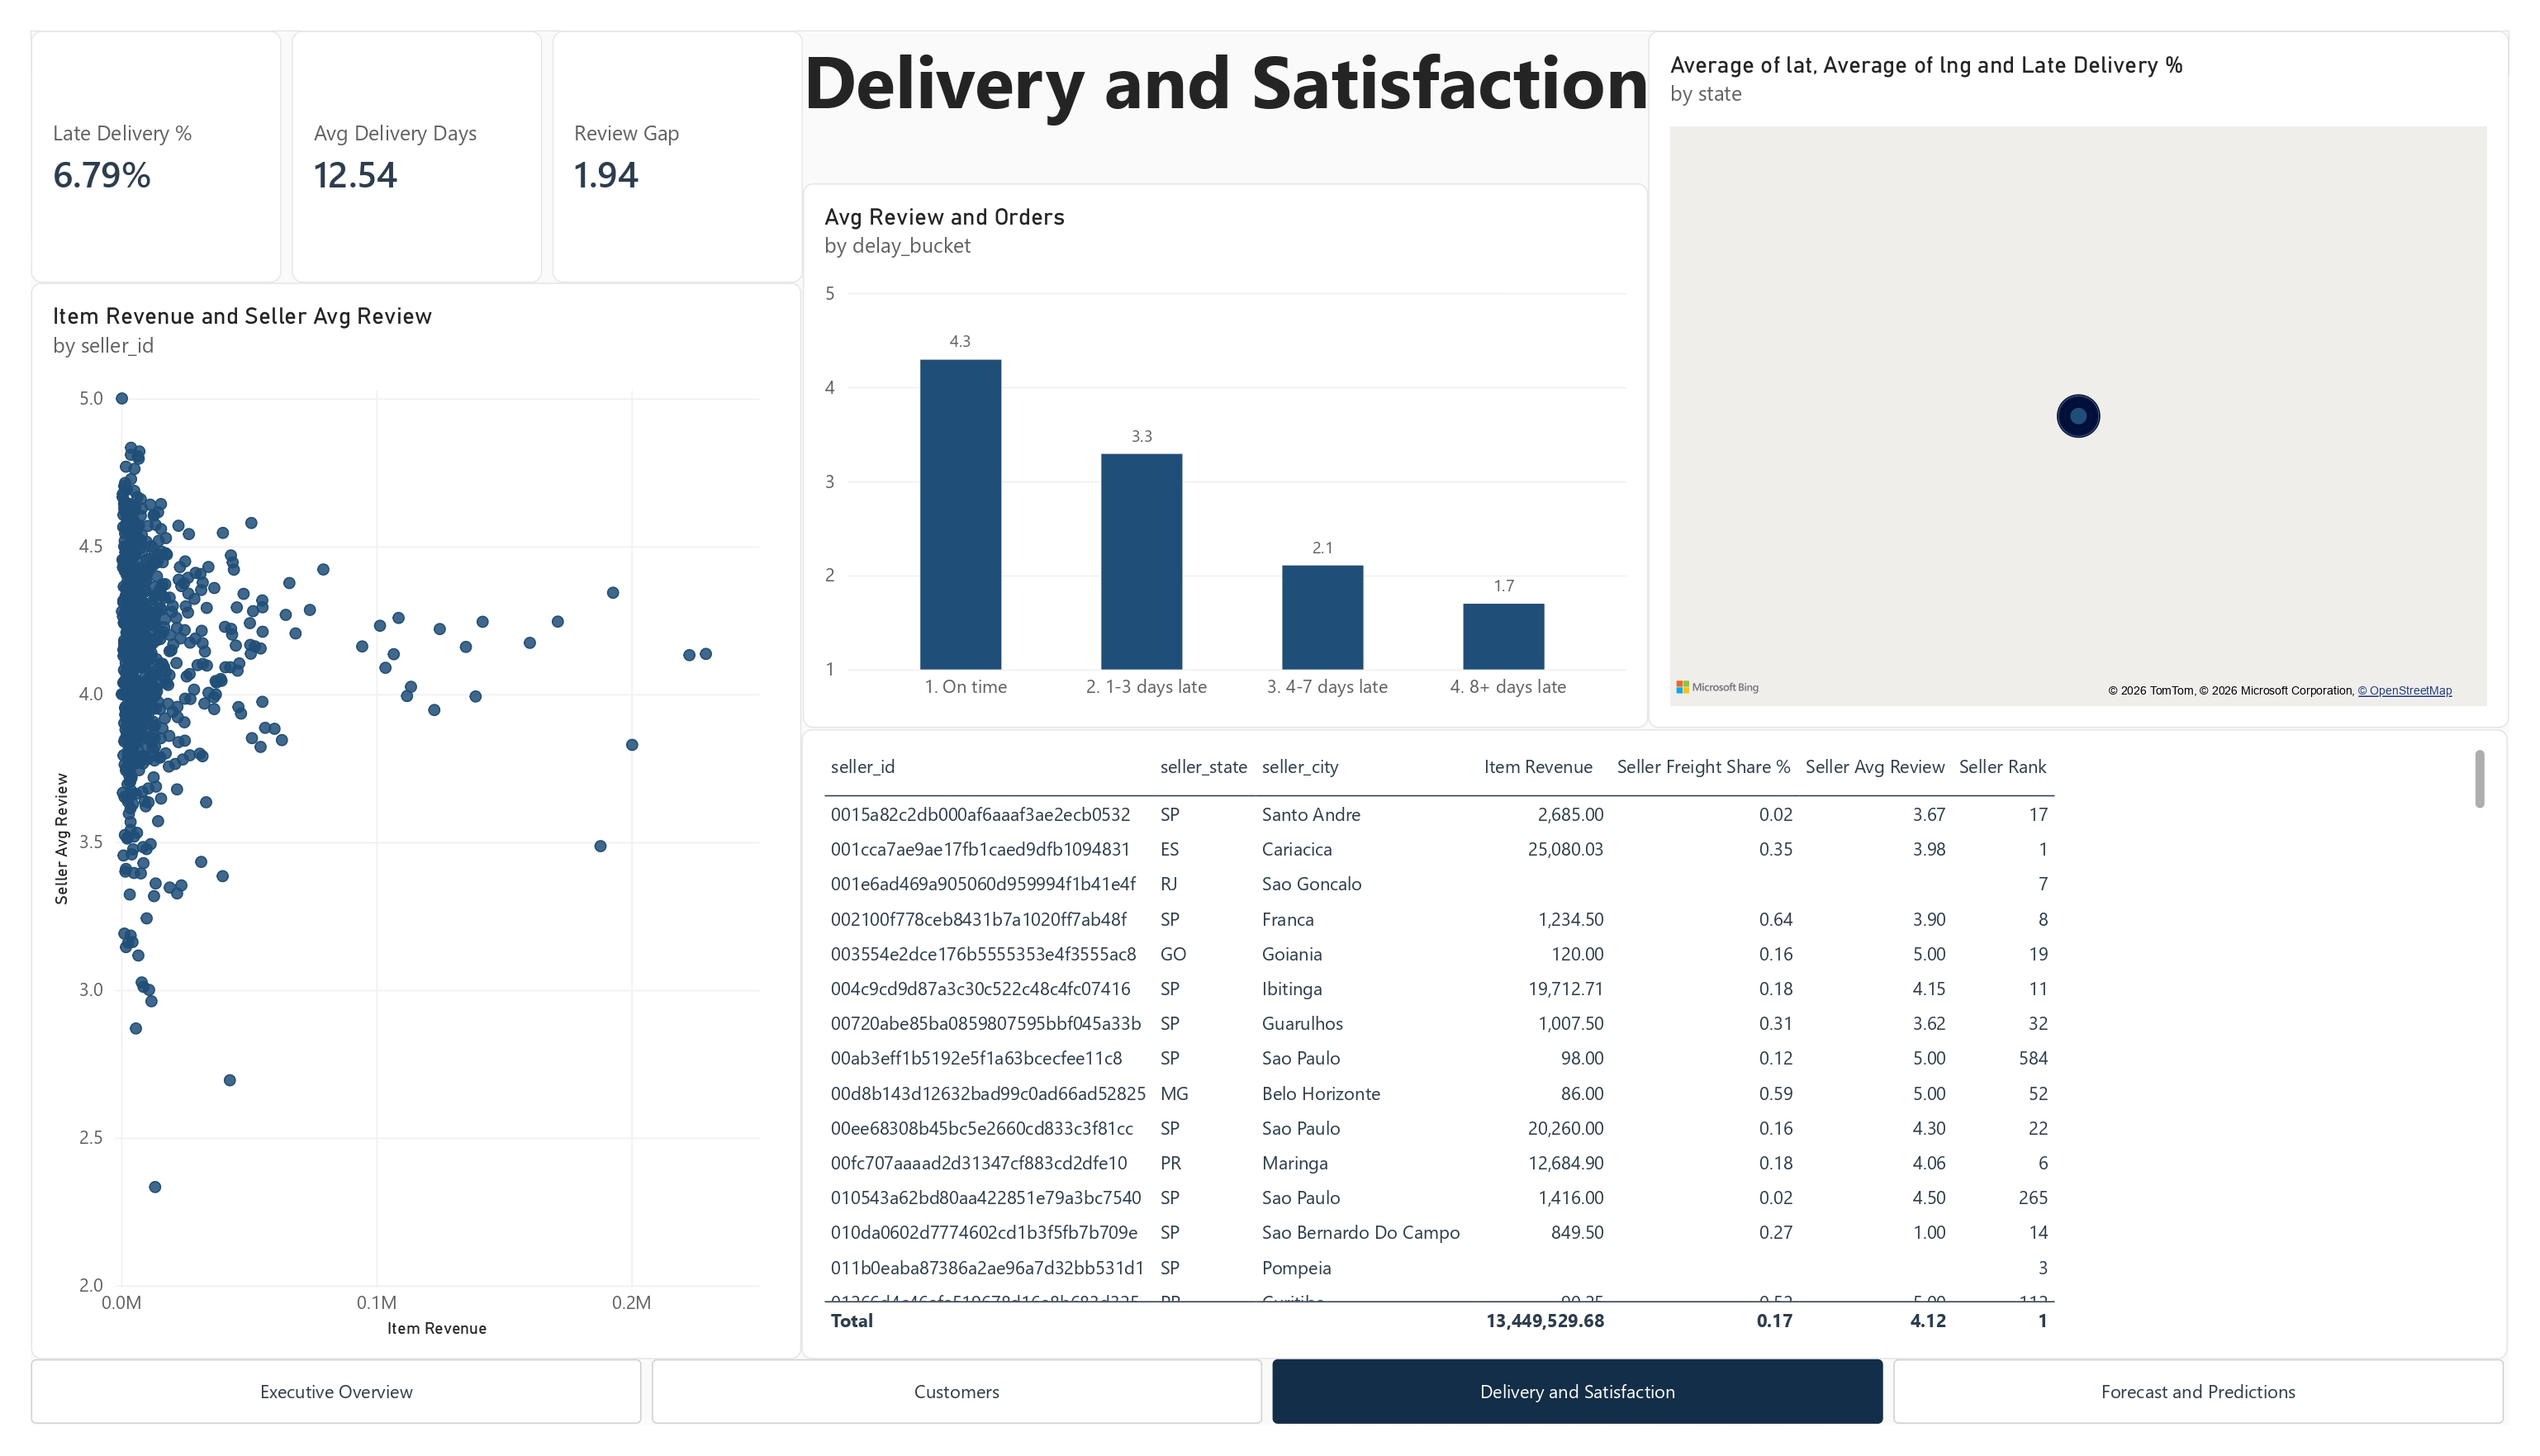

Layout of this report page (visuals, bound fields, positions):
{"tool":"powerbi","page":{"name":"Delivery and Satisfaction","canvas":[1920,1080],"ordinal":2},"visuals":[{"type":"clusteredColumnChart","fields":{"Category":["fact_orders.delay_bucket"],"Y":["_Measure.Avg Review"]},"box":[597.5,117.5,655,422.5],"z":0},{"type":"cardVisual","fields":{"Data":["_Measure.Late Delivery %","_Measure.Avg Delivery Days","_Measure.Review Gap"]},"box":[0,0,597.5,195],"z":1000},{"type":"map","fields":{"Category":["dim_customers.state"],"Size":["_Measure.Late Delivery %"],"X":["Avg(dim_geo.lng)"],"Y":["Avg(dim_geo.lat)"]},"box":[1252.5,0,667.5,540],"z":2000},{"type":"scatterChart","fields":{"Category":["dim_sellers.seller_id"],"X":["_Measure.Item Revenue"],"Y":["_Measure.Seller Avg Review"]},"box":[0,195.3,597.4,833.6],"z":3000},{"type":"tableEx","fields":{"Values":["dim_sellers.seller_id","dim_sellers.seller_state","dim_sellers.seller_city","_Measure.Item Revenue","_Measure.Seller Freight Share %","_Measure.Seller Avg Review","_Measure.Seller Rank"]},"box":[597.4,540.6,1321.9,488.3],"z":4000},{"type":"textbox","box":[597.5,0,685,97.5],"z":5000},{"type":"pageNavigator","box":[0,1028.9,1919.3,50],"z":6000}]}

Visuals, with their boxes on the page's 1920x1080 design canvas (x1, y1, x2, y2). These are canvas units, not pixel positions in the 2540x1456 screenshot, which may show the page scaled, cropped or inside an application window:
clusteredColumnChart - fact_orders.delay_bucket x _Measure.Avg Review: box=[598, 118, 1252, 540]
cardVisual - _Measure.Late Delivery % x _Measure.Avg Delivery Days: box=[0, 0, 598, 195]
map - dim_customers.state x _Measure.Late Delivery %: box=[1252, 0, 1920, 540]
scatterChart - dim_sellers.seller_id x _Measure.Item Revenue: box=[0, 195, 597, 1029]
tableEx - dim_sellers.seller_id x dim_sellers.seller_state: box=[597, 541, 1919, 1029]
textbox: box=[598, 0, 1282, 98]
pageNavigator: box=[0, 1029, 1919, 1079]
